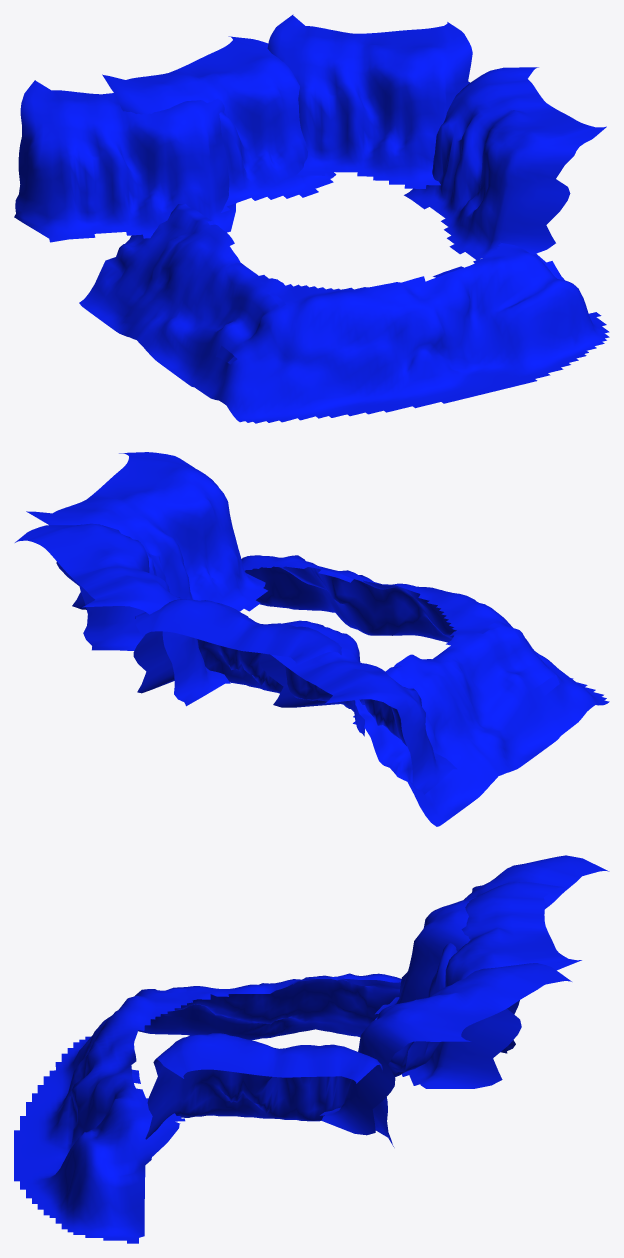
File: Town_Mountains.FBX
3 views of the same model, one above another, from view 1: azimuth 30°, elevation 25°; view 2: azimuth 150°, elevation 25°; view 3: azimuth 270°, elevation 25° (orthographic). The views are drawn at different scales.
Parts seen in each view (by area): view 1: Town_Mountains; view 2: Town_Mountains; view 3: Town_Mountains.
Part boxes in pixels (<box>): Town_Mountains: <box>14,14,609,423</box>; Town_Mountains: <box>15,452,609,826</box>; Town_Mountains: <box>14,855,609,1243</box>.
Size of the model in its own units: 5277 by 2096 by 5439.
